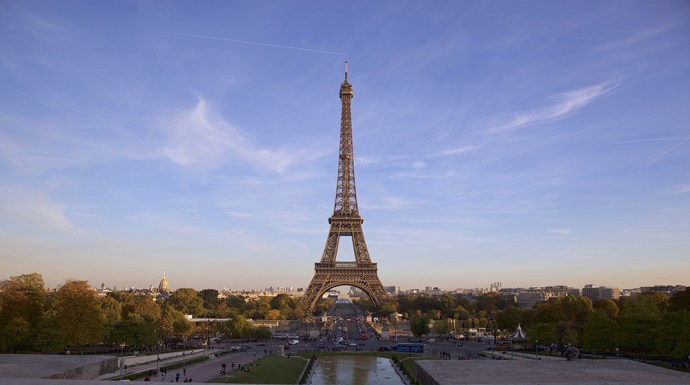eiffel tower: (276, 43, 406, 316)
